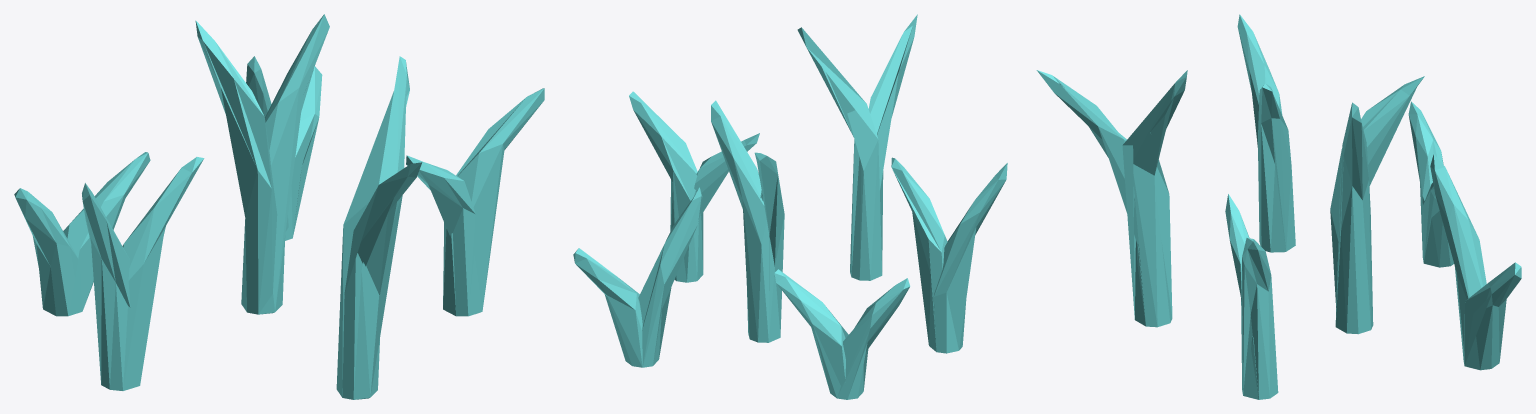
The model's file is pedal2.gltf.
The picture shows the model from 3 angles, left to right: view 1: azimuth 30°, elevation 25°; view 2: azimuth 150°, elevation 25°; view 3: azimuth 270°, elevation 25°; orthographic projection. The views are drawn at different scales.
Parts seen in each view (by area): view 1: Sphere.092_Flowers02_0; view 2: Sphere.092_Flowers02_0; view 3: Sphere.092_Flowers02_0.
Boxes of the visible parts, left/top/right/bottom form: Sphere.092_Flowers02_0: left=14, top=14, right=544, bottom=399; Sphere.092_Flowers02_0: left=573, top=14, right=1007, bottom=399; Sphere.092_Flowers02_0: left=1036, top=14, right=1521, bottom=399.
Bounding box in the file's own units: 0.3478 × 0.2193 × 0.3476.
